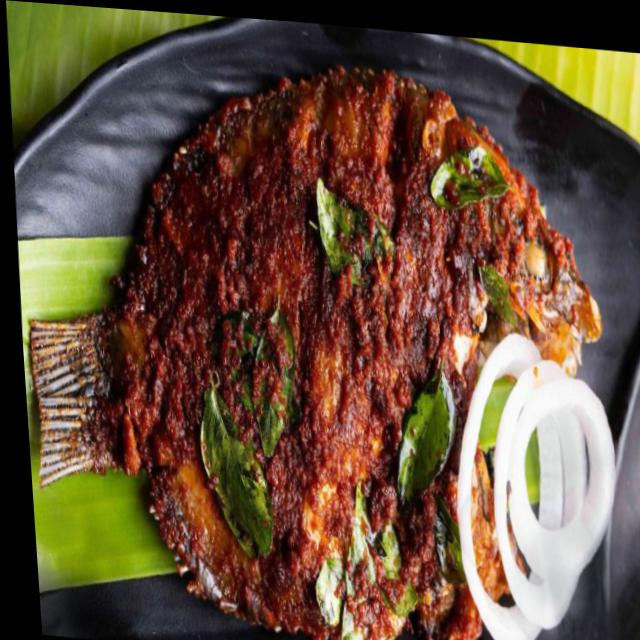FISH FRY: (31, 64, 597, 640)
